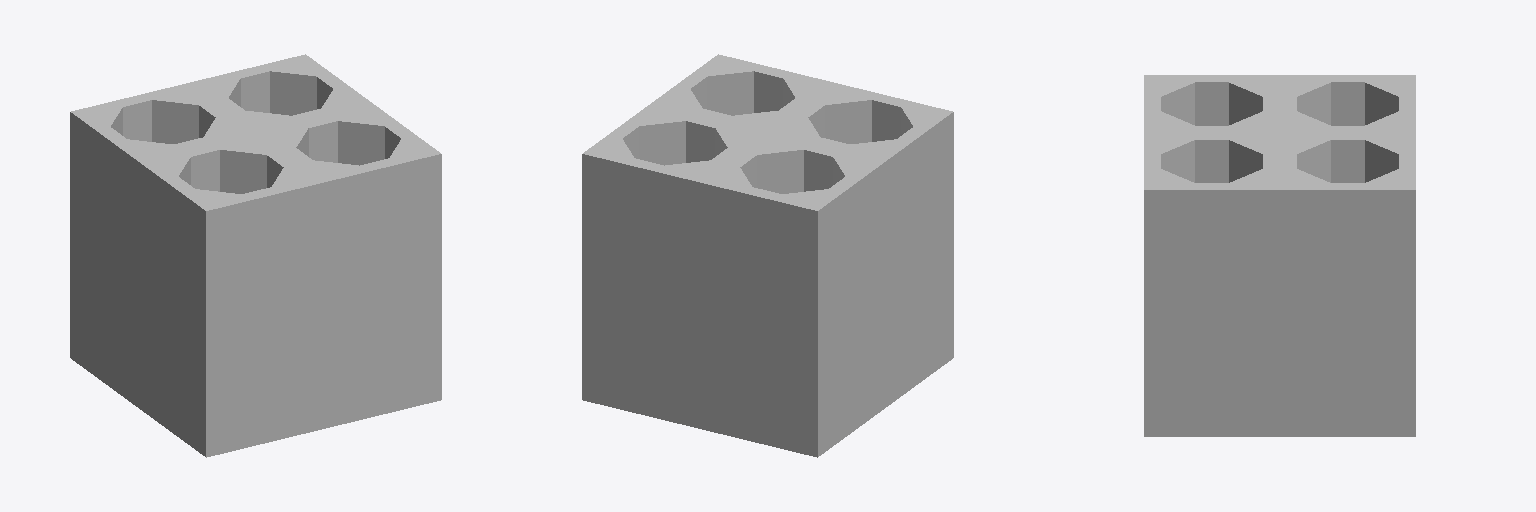
The model's file is rod_column.obj.
3 renders of one model, left to right at view 1: azimuth 30°, elevation 25°; view 2: azimuth 150°, elevation 25°; view 3: azimuth 270°, elevation 25°, orthographic.
Visible parts, largest first — view 1: Column; view 2: Column; view 3: Column.
Boxes of the visible parts, x1,y1,x2,y2 form: Column: [70, 54, 441, 457]; Column: [582, 54, 953, 457]; Column: [1144, 75, 1415, 436].
Bounding box in the file's own units: 1 × 1 × 1.